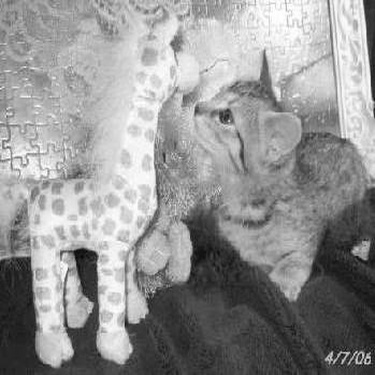cat: (191, 48, 372, 304)
